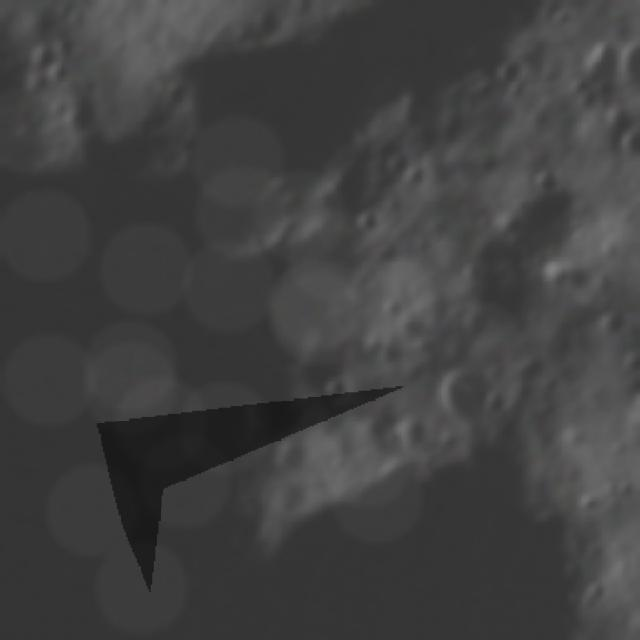crater: (440, 368, 497, 426), (614, 38, 640, 88), (380, 149, 418, 180), (314, 377, 354, 405), (526, 166, 556, 197), (361, 213, 384, 235)
